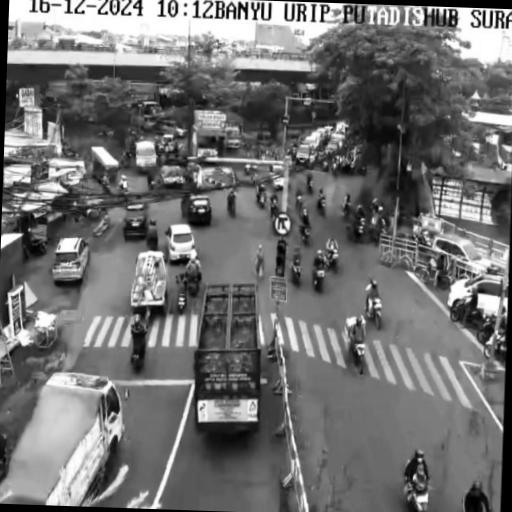truck: (0, 374, 123, 505), (194, 283, 260, 432), (420, 233, 497, 274), (131, 252, 167, 313), (136, 140, 156, 172), (226, 125, 241, 149)
